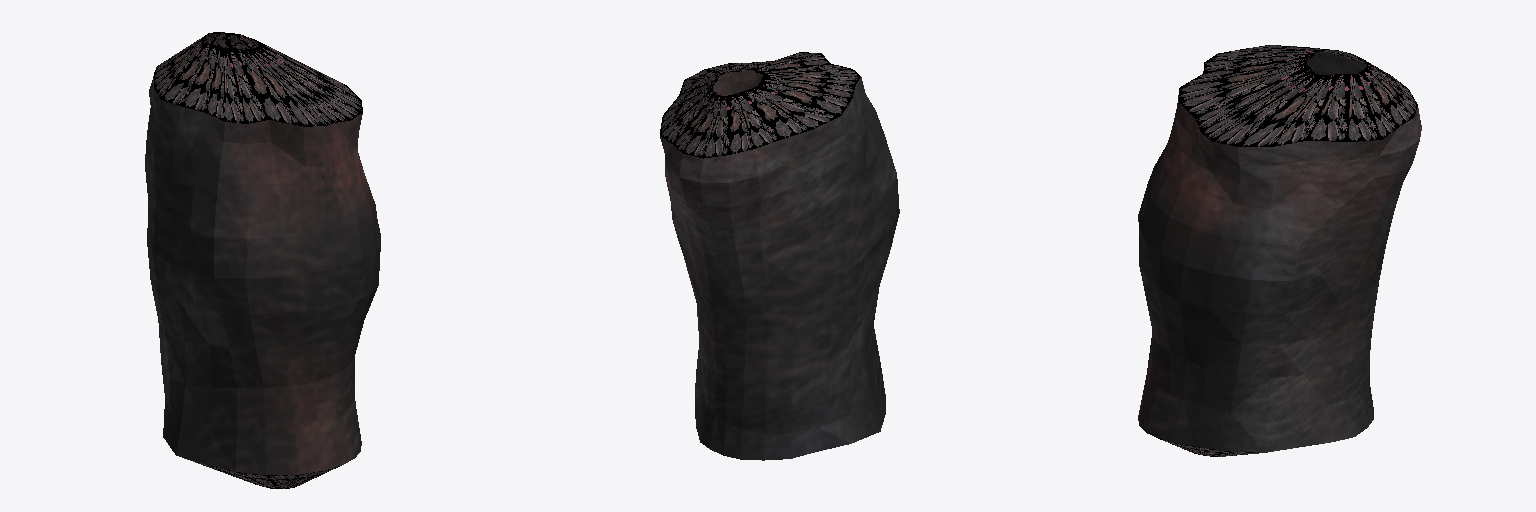
3 views of the same model, side by side, from view 1: azimuth 30°, elevation 25°; view 2: azimuth 150°, elevation 25°; view 3: azimuth 270°, elevation 25° (orthographic).
Visible parts, largest first — view 1: Knee_L_Ankle_L_Cut; view 2: Knee_L_Ankle_L_Cut; view 3: Knee_L_Ankle_L_Cut.
Part boxes in pixels (x1,y1,x2,y2): Knee_L_Ankle_L_Cut: (145,32,380,488); Knee_L_Ankle_L_Cut: (660,52,899,460); Knee_L_Ankle_L_Cut: (1138,45,1421,456).
Bounding box in the file's own units: 1.1 × 2.16 × 1.4.
1 materials, 1 textured.